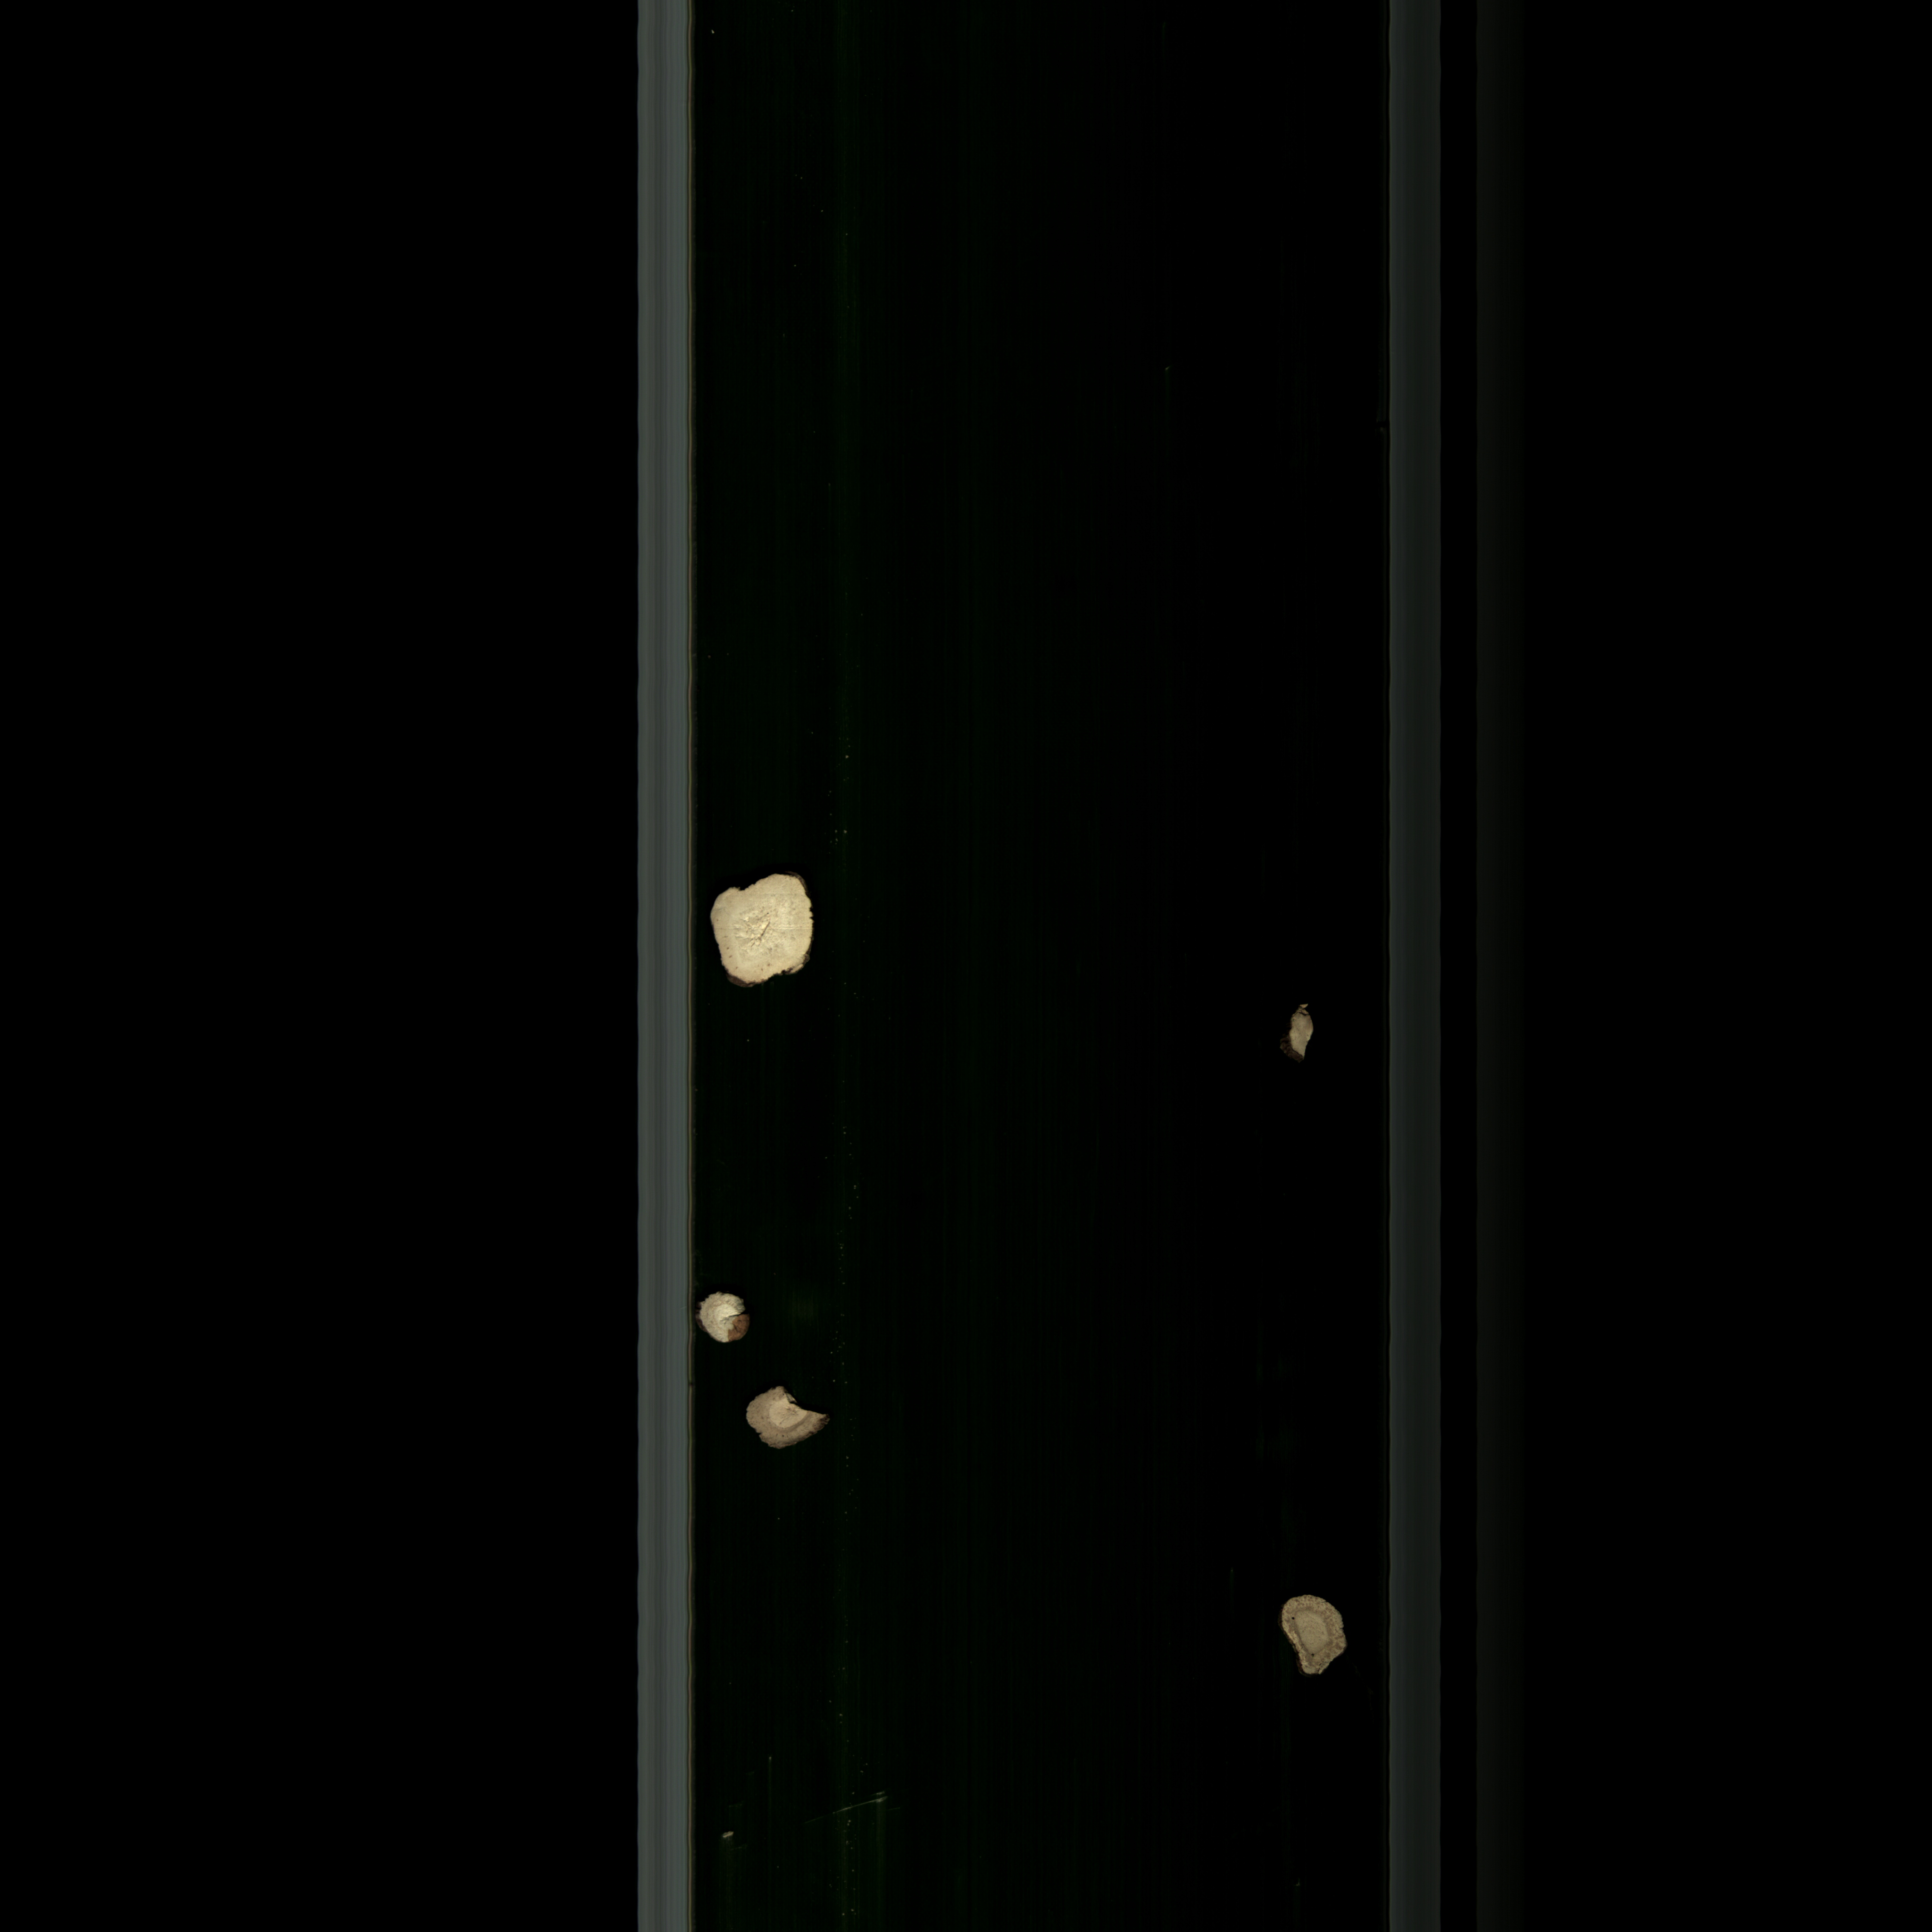distortion: (704, 856, 837, 1003)
dreg: (1281, 989, 1339, 1074)
moldy: (725, 1378, 869, 1461), (1261, 1585, 1361, 1690)
